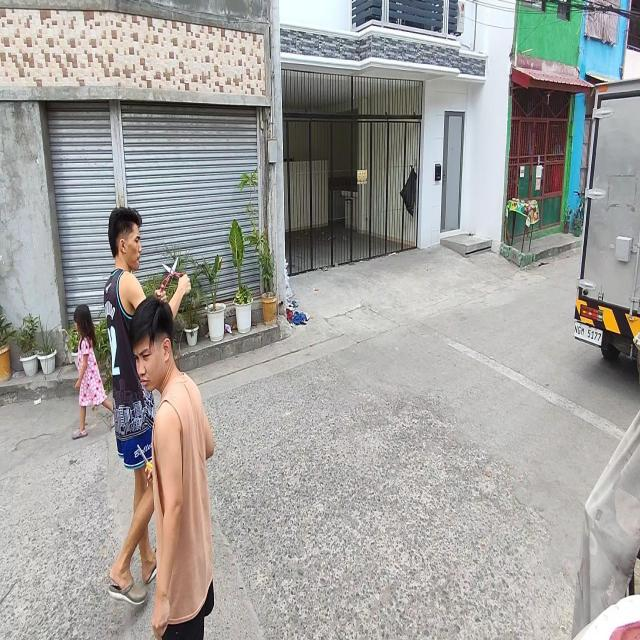scissor: (161, 258, 184, 292), (137, 444, 153, 483)
